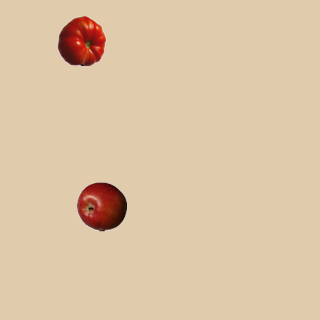Apple Braeburn: (76, 181, 126, 231)
Tomato 3: (56, 15, 106, 65)
